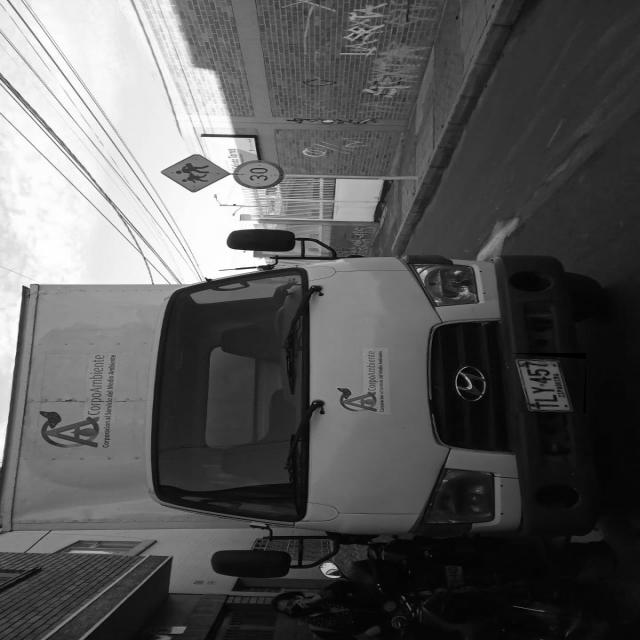plate: (511, 355, 583, 413)
